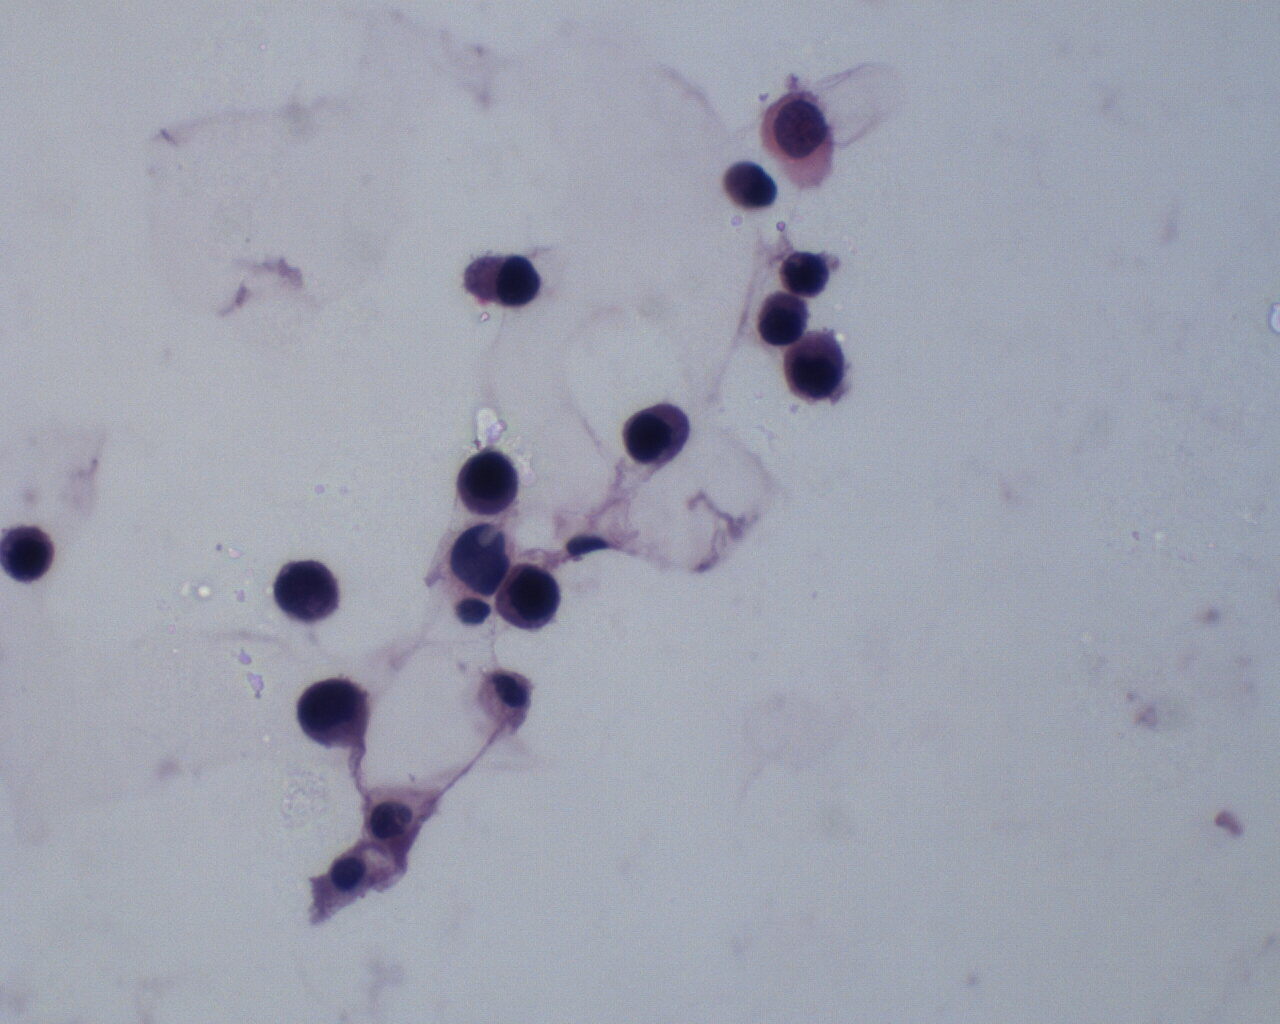ab: (295, 674, 374, 753), (778, 330, 857, 409), (270, 557, 345, 630), (621, 403, 695, 475), (496, 560, 563, 634), (456, 445, 523, 512), (3, 520, 59, 588), (750, 292, 808, 347)
